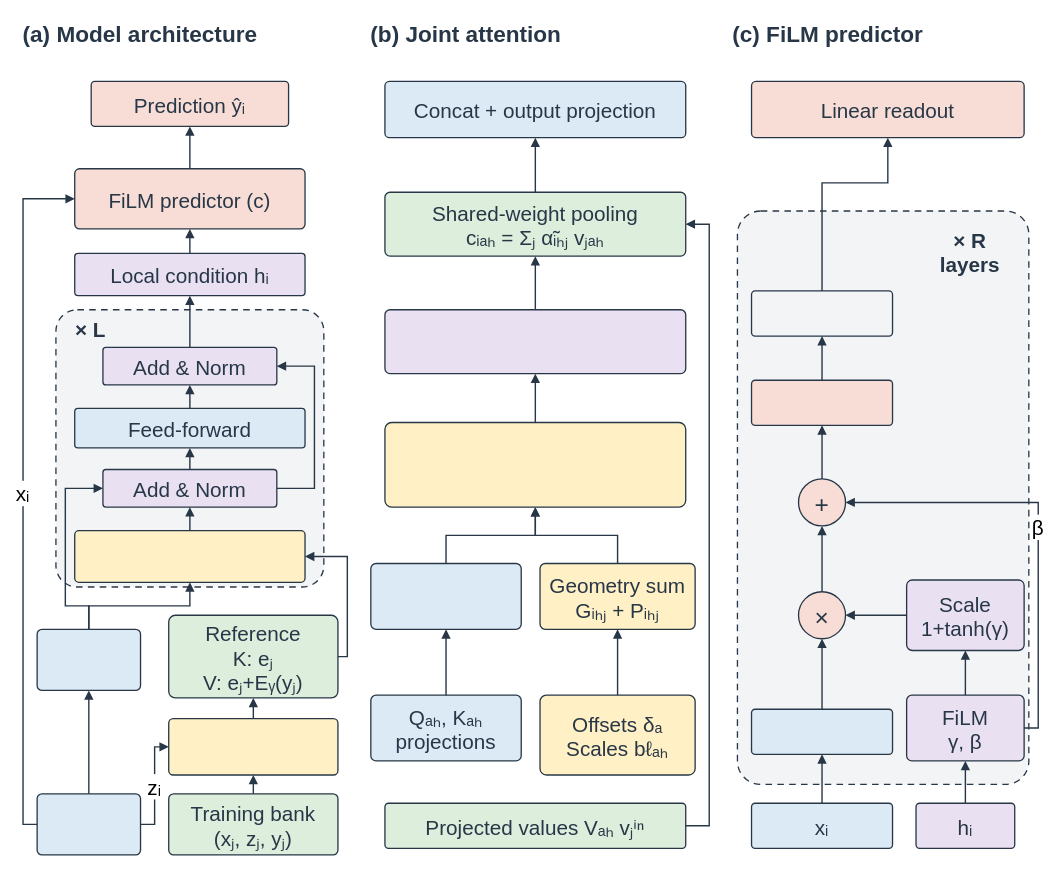
This 1061x870 diagram has some shape labels left out. Here are the shapes that lost their labels. From the top down, the centre of each, then its label:
the point at 821,313: Dropout
the point at 535,341: Masked joint softmax then attention dropout
the point at 821,402: GELU
the point at 535,464: sᵢₕⱼ = Cᵢₕⱼ + Gᵢₕⱼ + Pᵢₕⱼ Pᵢₕⱼ = −½Σₐ(δₐ/bℓₐₕ)²
the point at 189,556: Joint attention (b)
the point at 445,596: Content mean Cᵢₕⱼ
the point at 88,659: Query eᵢ
the point at 253,746: Top-K union using bℓₐₕ
the point at 821,731: Linear
the point at 88,824: Query (xᵢ, zᵢ)
